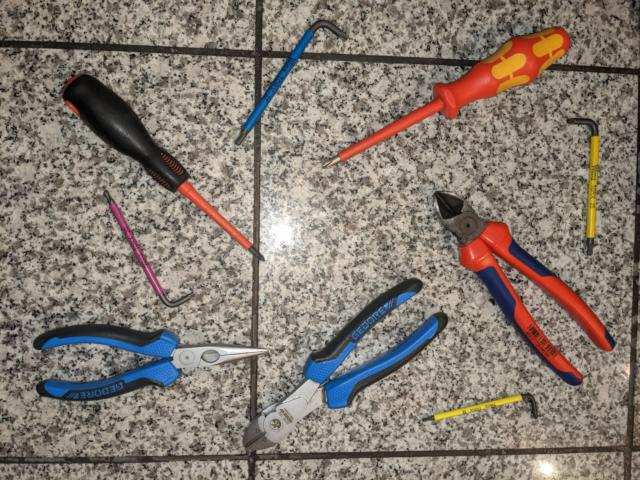Inbusschlüssel: (232, 14, 353, 149), (100, 188, 200, 310), (563, 115, 604, 260), (418, 390, 543, 428)
Schraubendreher: (59, 70, 268, 263), (316, 21, 577, 171)
Seitenschneider: (429, 188, 620, 389), (240, 275, 452, 455)
Zange: (32, 316, 275, 411)
